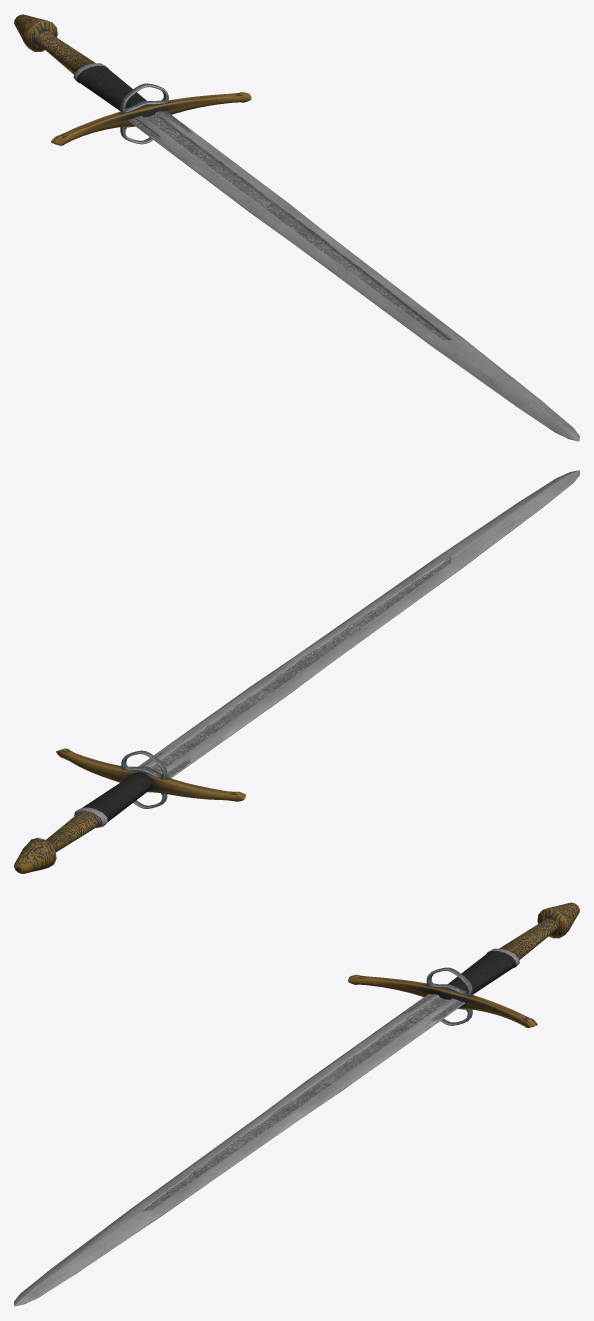
Rendered from longsword.glb.
3 views of the same model, one above another, from view 1: azimuth 30°, elevation 25°; view 2: azimuth 150°, elevation 25°; view 3: azimuth 330°, elevation 25° (orthographic). The views are drawn at different scales.
Parts seen in each view (by area): view 1: Cube; view 2: Cube; view 3: Cube.
Boxes of the visible parts, bbox=[...] form: Cube: bbox=[14, 14, 579, 441]; Cube: bbox=[14, 470, 579, 873]; Cube: bbox=[14, 902, 579, 1306].
Bounding box in the file's own units: 0.3994 × 0.1136 × 2.
4 materials, 4 textured.
